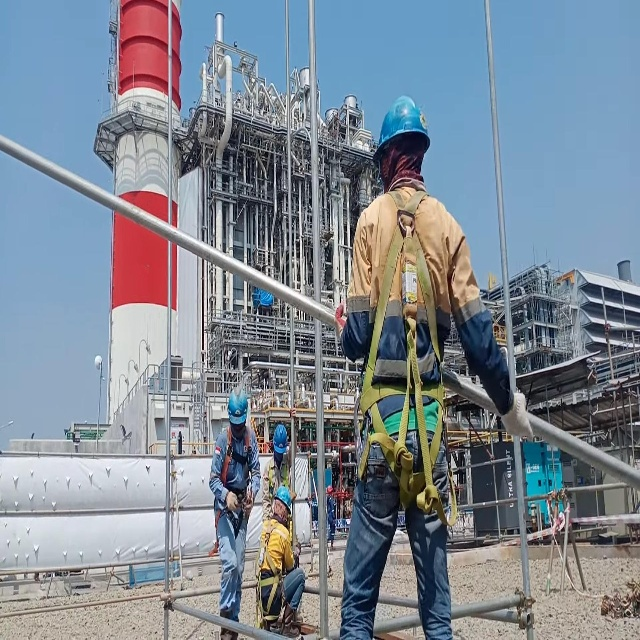Arnes_seguridad: (352, 180, 460, 527), (211, 423, 251, 546), (254, 512, 289, 630)
